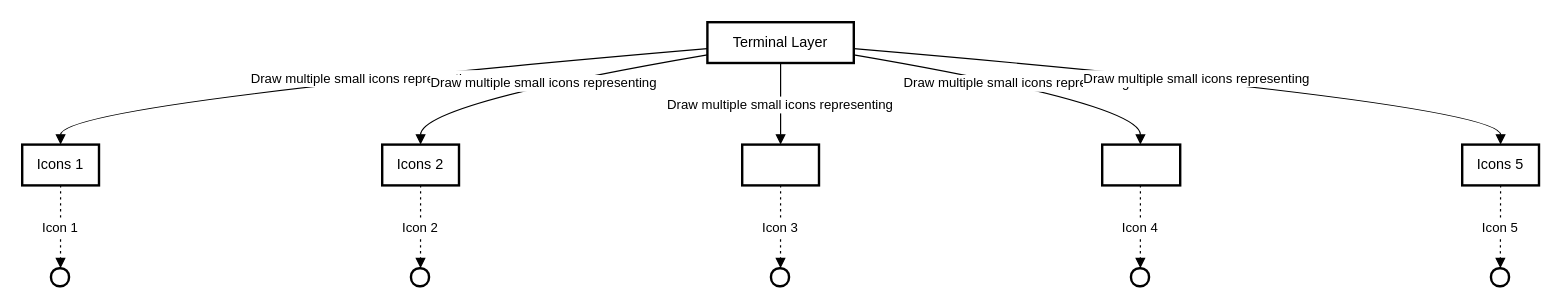
This 1560x307 diagram has some shape labels left out. Each missing label, with the box of its shape:
Icons 3: (740, 143, 820, 186)
Icons 4: (1100, 143, 1181, 186)
